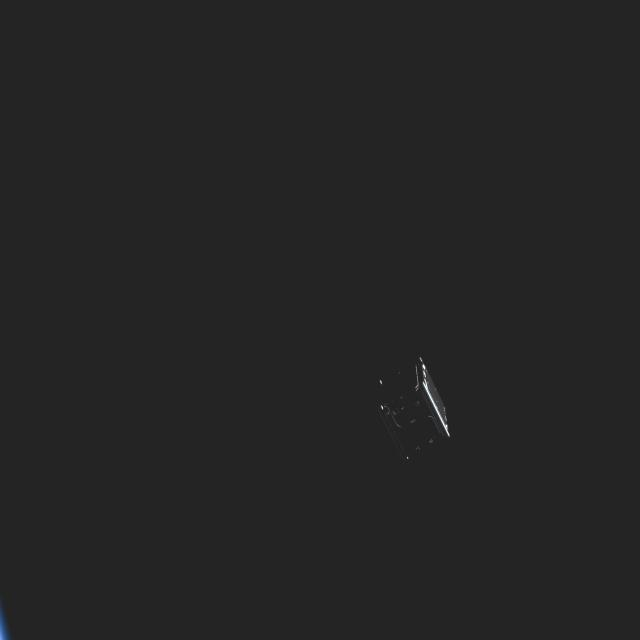medium_debris: (369, 352, 452, 464)
